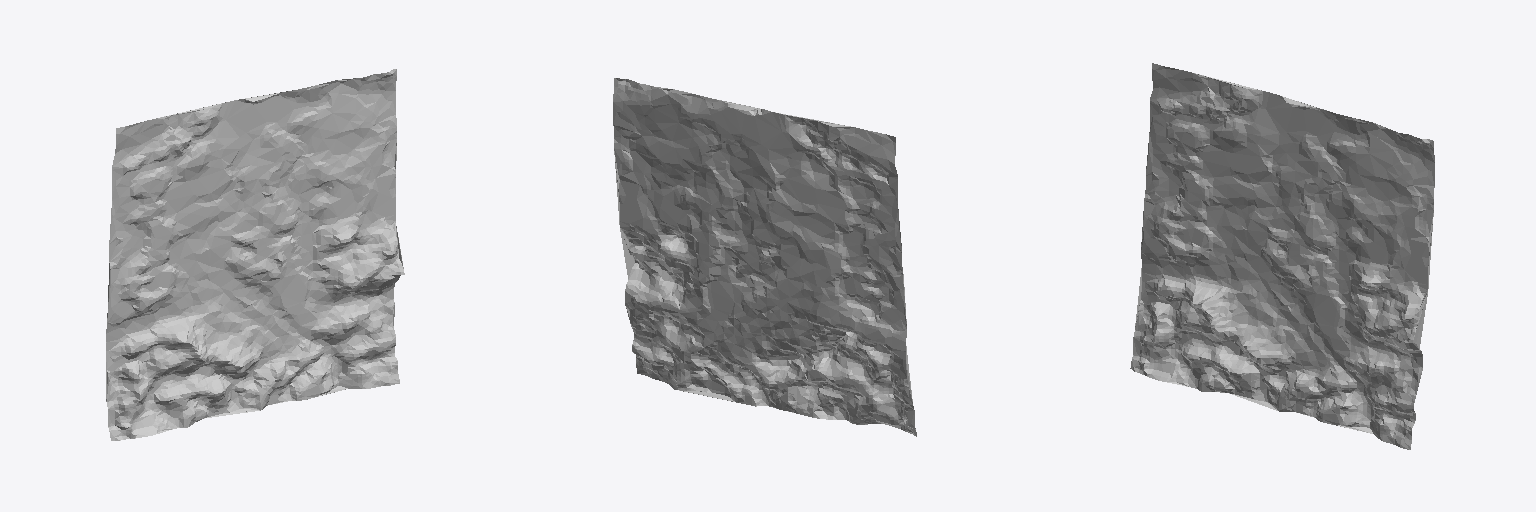
Rendered from sevier.obj.
The picture shows the model from 3 angles: view 1: azimuth 30°, elevation 25°; view 2: azimuth 150°, elevation 25°; view 3: azimuth 330°, elevation 25°; orthographic projection.
Size of the model in its own units: 140 by 142 by 13.39.